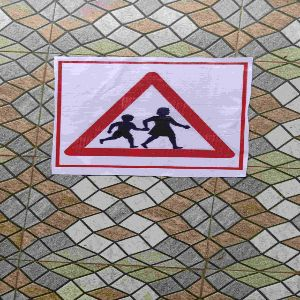schools: (60, 62, 243, 169)
